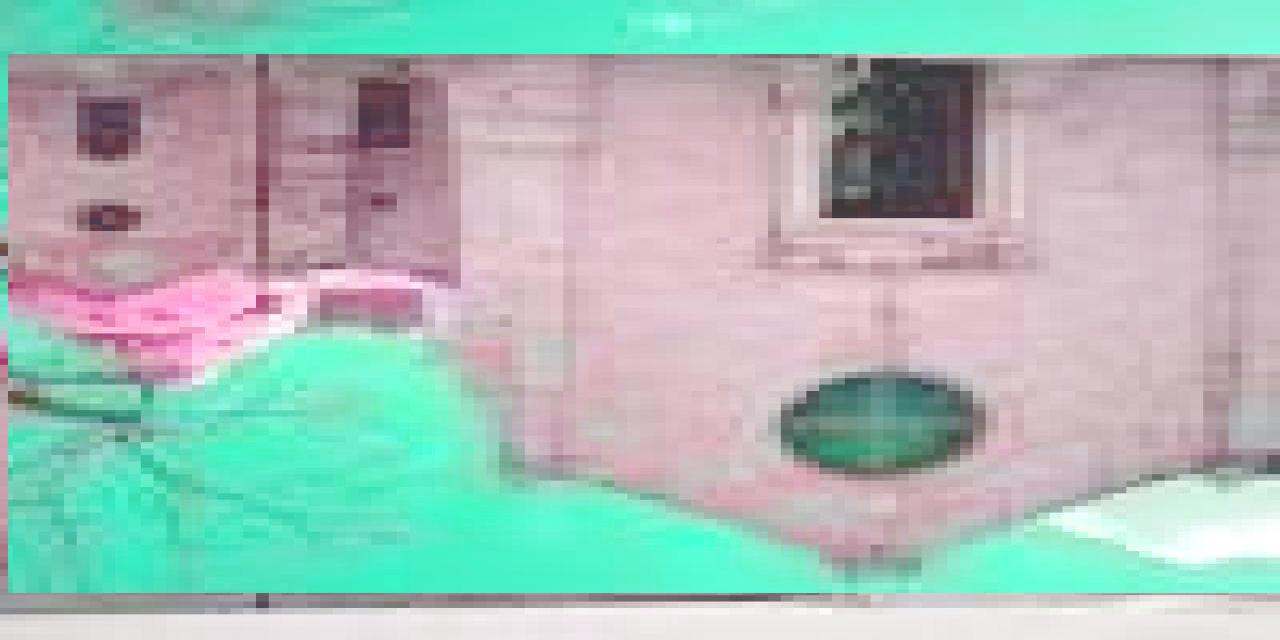Agia Aikaterini: (9, 55, 1280, 594)
